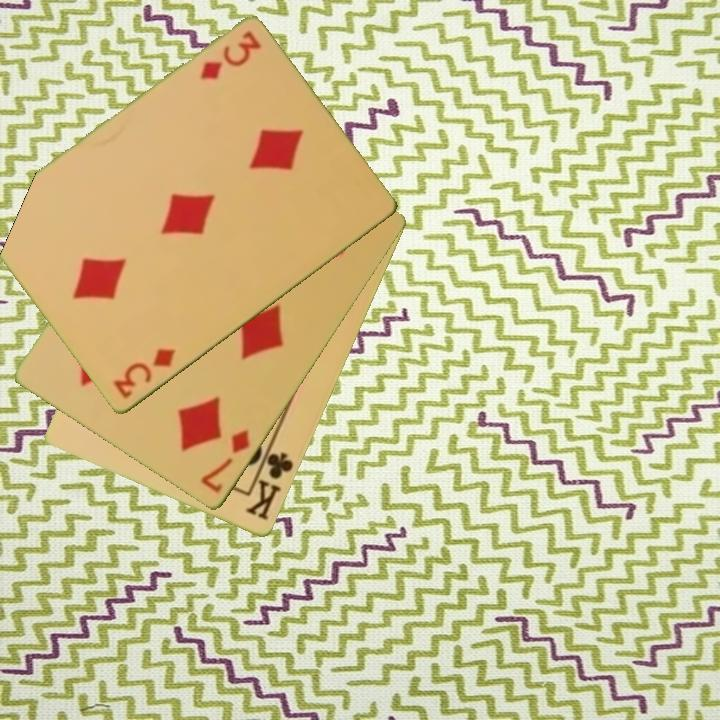3d: (110, 345, 179, 403), (196, 28, 265, 84)
7d: (197, 425, 254, 497)
Kc: (242, 440, 297, 524)
